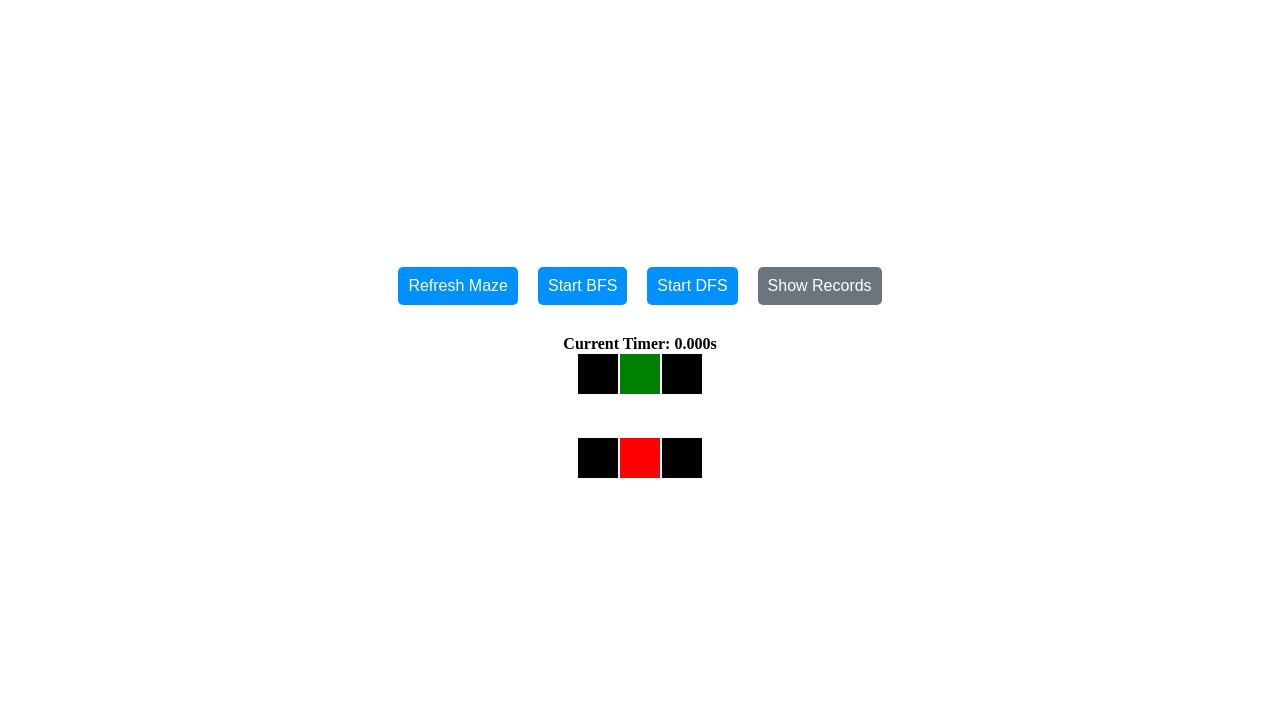
it: MazeGrid Integration › clears results when clear button is clicked
// Show records and run an algorithm
Click the button "Show Records".
click(820, 286)  # box [758,267,882,305]
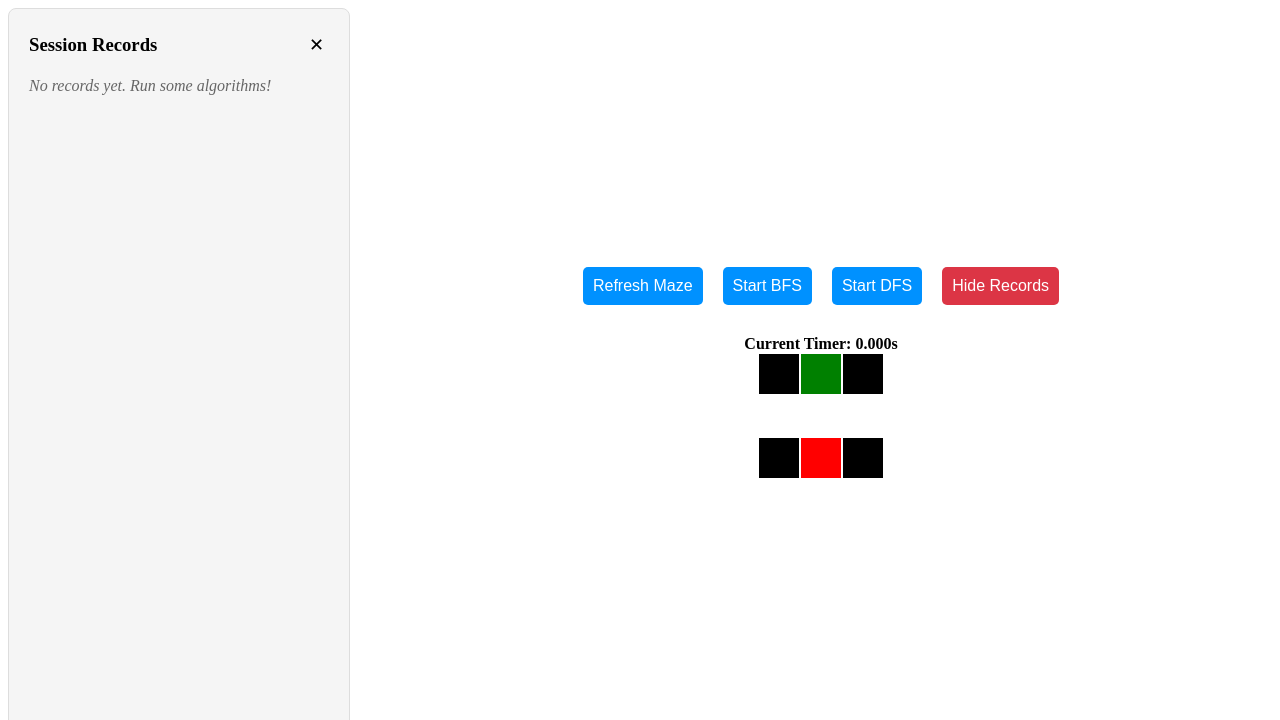
Click the button "Start BFS".
click(767, 286)  # box [722,267,812,305]
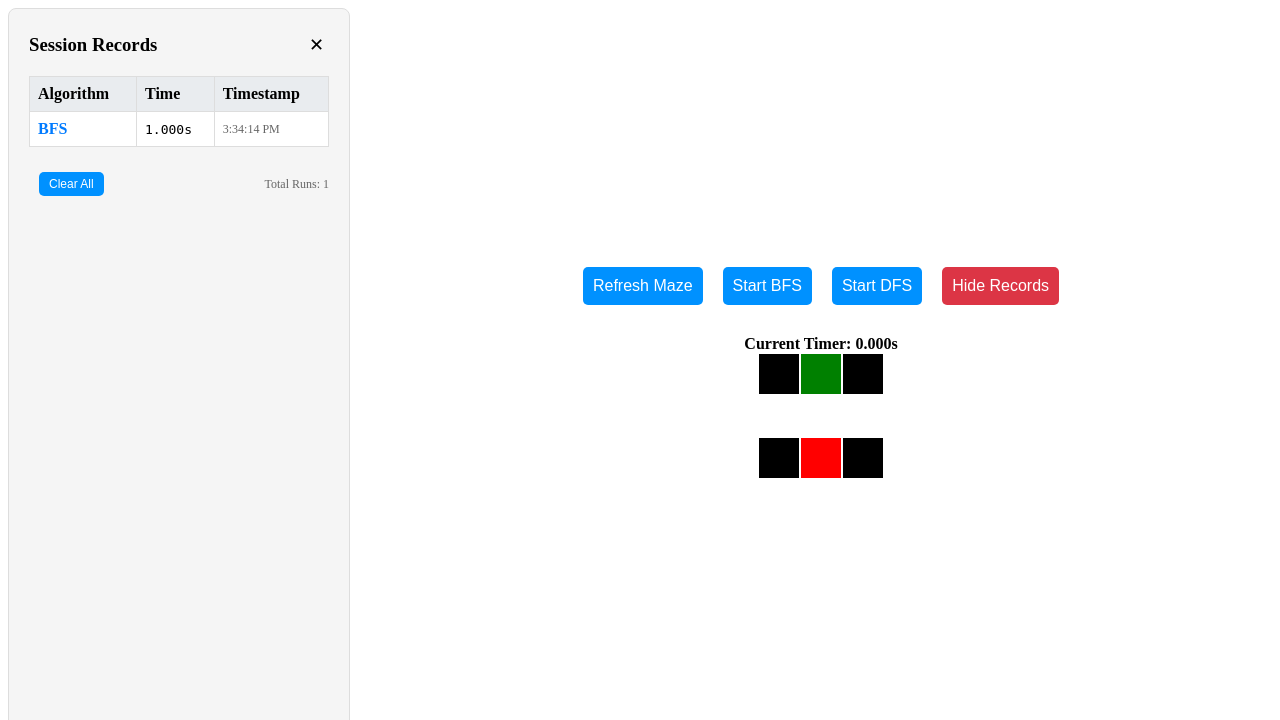
Expected: the text "Total Runs: 1" is shown, [264,176,329,192]
// Clear results
Click the button "Clear All".
click(71, 184)  # box [39,172,104,196]
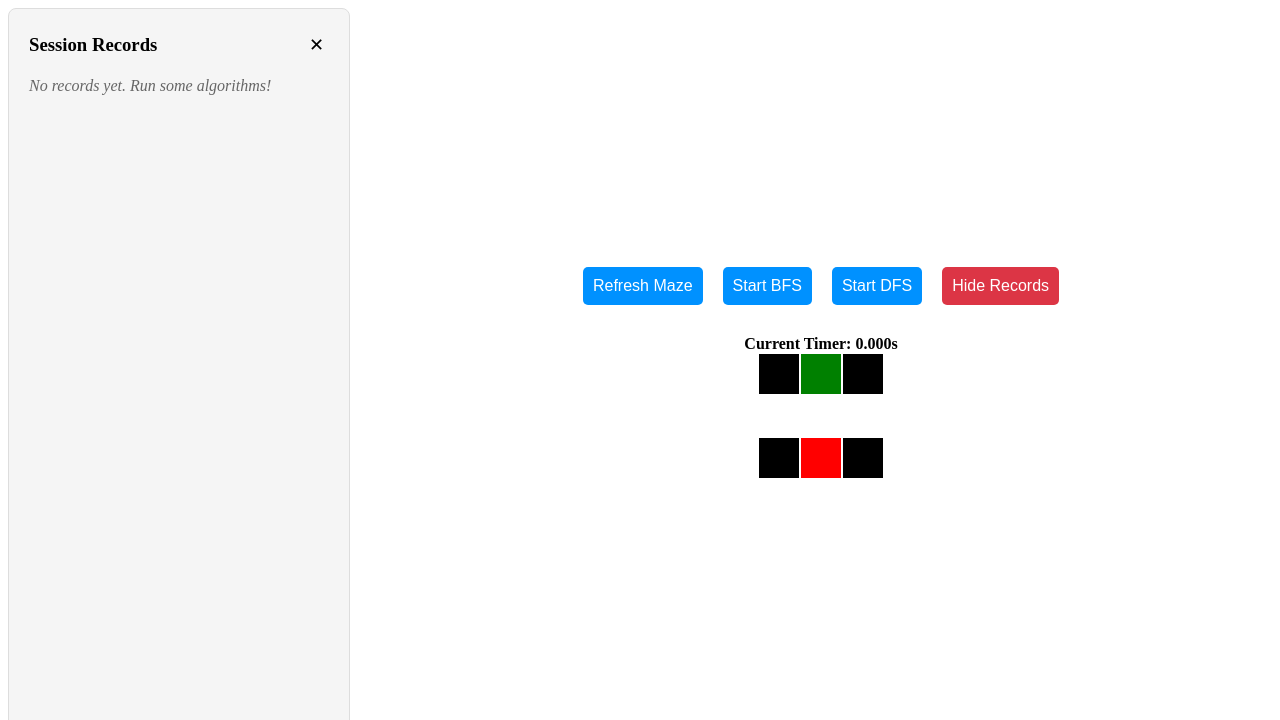
Expected: the text "No records yet. Run some algorithms!" is shown, [29,77,271,94]
